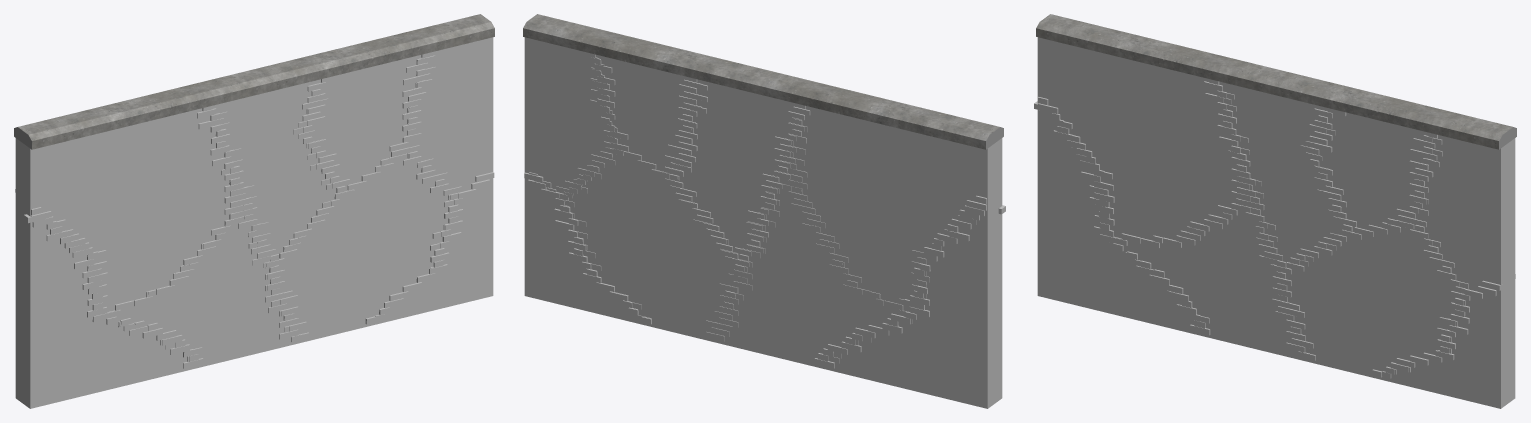
Rendered from Wall_Seg_Shattered.fbx.
3 views of the same model, side by side, from view 1: azimuth 30°, elevation 25°; view 2: azimuth 150°, elevation 25°; view 3: azimuth 330°, elevation 25° (orthographic).
Visible parts, largest first — view 1: Fragment_02, Fragment_05, Fragment_07, Fragment_04, Fragment_03, Fragment_01, Fragment_08, Fragment_06; view 2: Fragment_02, Fragment_07, Fragment_05, Fragment_04, Fragment_01, Fragment_08, Fragment_03, Fragment_06; view 3: Fragment_02, Fragment_05, Fragment_07, Fragment_04, Fragment_03, Fragment_08, Fragment_01, Fragment_06.
Part boxes in pixels (x1,y1,x2,y2): Fragment_02: [14, 83, 248, 319]; Fragment_05: [267, 147, 461, 343]; Fragment_07: [15, 187, 203, 408]; Fragment_04: [195, 55, 336, 267]; Fragment_03: [302, 31, 430, 199]; Fragment_01: [101, 193, 302, 366]; Fragment_08: [405, 14, 494, 199]; Fragment_06: [365, 171, 494, 327]; Fragment_02: [784, 84, 1005, 316]; Fragment_07: [814, 195, 1002, 408]; Fragment_05: [556, 147, 750, 342]; Fragment_04: [667, 55, 825, 271]; Fragment_01: [711, 155, 916, 366]; Fragment_08: [523, 14, 620, 201]; Fragment_03: [586, 31, 704, 181]; Fragment_06: [524, 171, 652, 327]; Fragment_02: [1034, 14, 1255, 248]; Fragment_05: [1273, 215, 1468, 378]; Fragment_07: [1037, 97, 1210, 337]; Fragment_04: [1210, 57, 1343, 269]; Fragment_03: [1309, 85, 1442, 239]; Fragment_08: [1412, 110, 1516, 294]; Fragment_01: [1108, 184, 1309, 361]; Fragment_06: [1372, 273, 1515, 408].
Bounding box in the file's own units: 5.4 × 3.02 × 0.3581.
